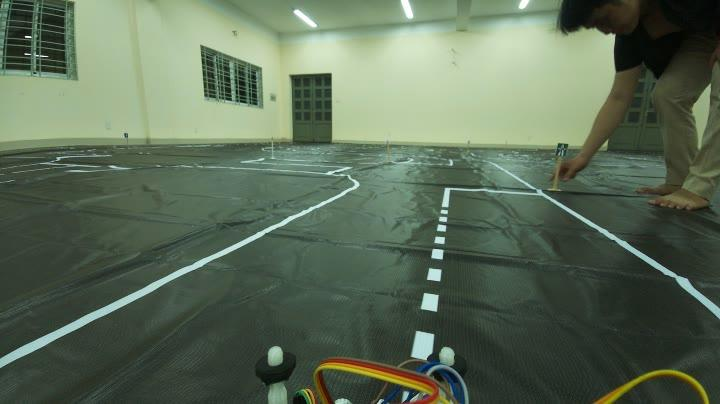highway_exit: (554, 139, 568, 158)
